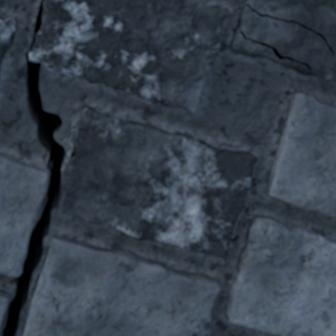brick: (57, 107, 256, 260), (29, 0, 230, 112), (24, 235, 219, 335), (225, 217, 335, 335), (266, 93, 335, 216), (231, 0, 335, 80), (0, 153, 48, 275), (0, 15, 15, 61), (0, 291, 9, 331)
crack: (0, 2, 66, 335), (244, 3, 334, 54), (239, 31, 311, 75), (70, 148, 77, 158)
